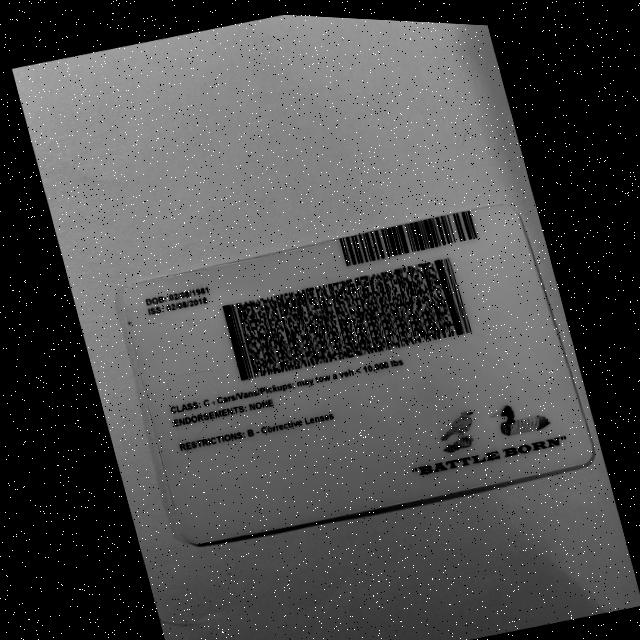card: (123, 206, 592, 544)
